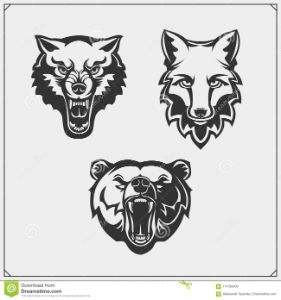bear: (84, 153, 199, 255)
wolf: (155, 21, 243, 149)
